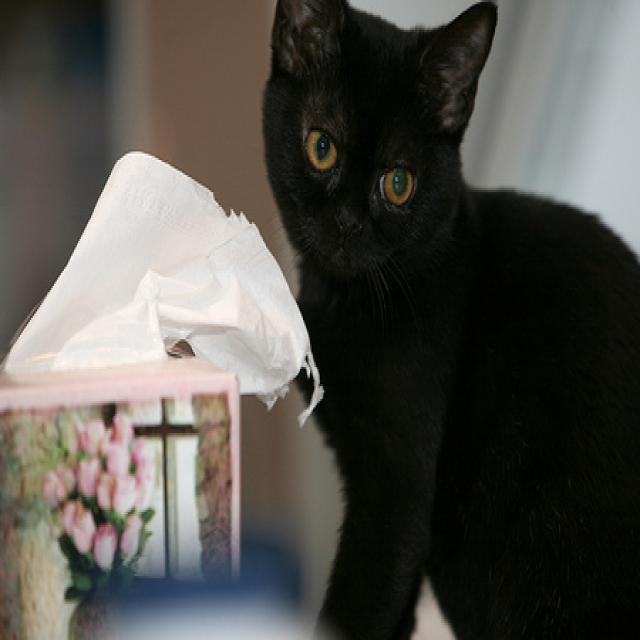Bombay: (259, 0, 640, 640)
